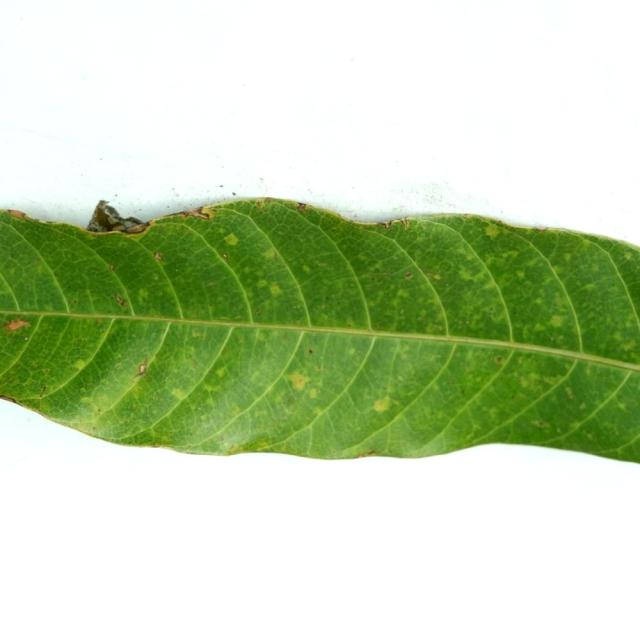Mango: (0, 198, 639, 462)
Powdery_Mildew: (215, 225, 253, 250), (285, 370, 316, 397), (516, 370, 551, 391), (2, 318, 31, 333), (458, 266, 482, 282), (372, 397, 393, 413), (202, 381, 222, 394), (485, 224, 501, 239), (620, 339, 638, 352), (268, 282, 283, 297), (394, 289, 411, 302), (171, 388, 188, 400), (80, 397, 98, 408), (549, 315, 565, 327), (214, 365, 228, 378), (533, 321, 549, 332), (264, 248, 278, 260), (73, 359, 87, 370), (514, 269, 526, 279), (430, 272, 442, 281), (301, 265, 311, 274)
